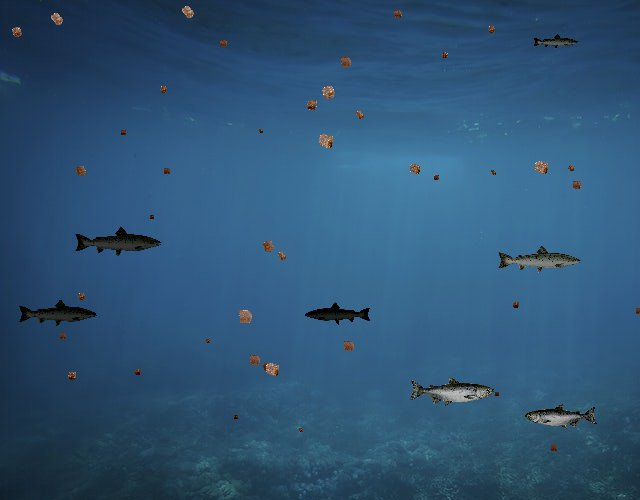Fish: (74, 226, 164, 258), (496, 244, 582, 275), (408, 376, 494, 407), (17, 298, 98, 328), (525, 404, 598, 430), (304, 301, 372, 326), (532, 33, 579, 50)
Pellet: (5, 21, 28, 43), (567, 176, 586, 195), (350, 105, 369, 124), (388, 5, 406, 22), (430, 171, 443, 184), (117, 127, 129, 139), (202, 336, 212, 346)
